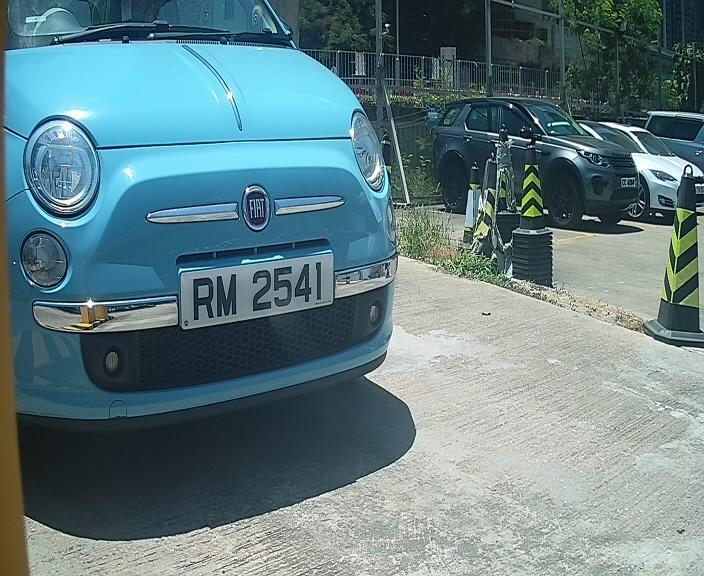privatecar: (7, 8, 431, 451)
